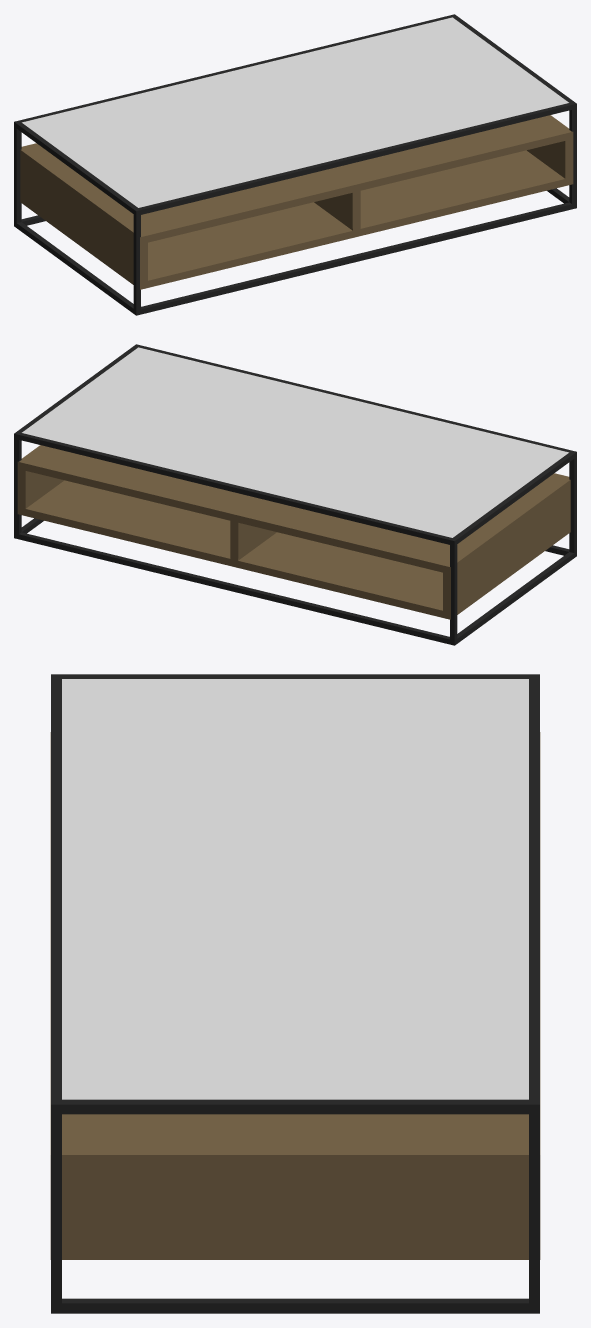
File: GlassTable.fbx
3 renders of one model, top to bottom at view 1: azimuth 30°, elevation 25°; view 2: azimuth 150°, elevation 25°; view 3: azimuth 270°, elevation 25°, orthographic. The views are drawn at different scales.
Visible parts, largest first — view 1: pCube205; view 2: pCube205; view 3: pCube205.
Boxes of the visible parts, x1,y1,x2,y2 form: pCube205: [14, 14, 576, 315]; pCube205: [14, 344, 576, 645]; pCube205: [50, 674, 540, 1313].
Size of the model in its own units: 9.18 by 2.08 by 4.42.
